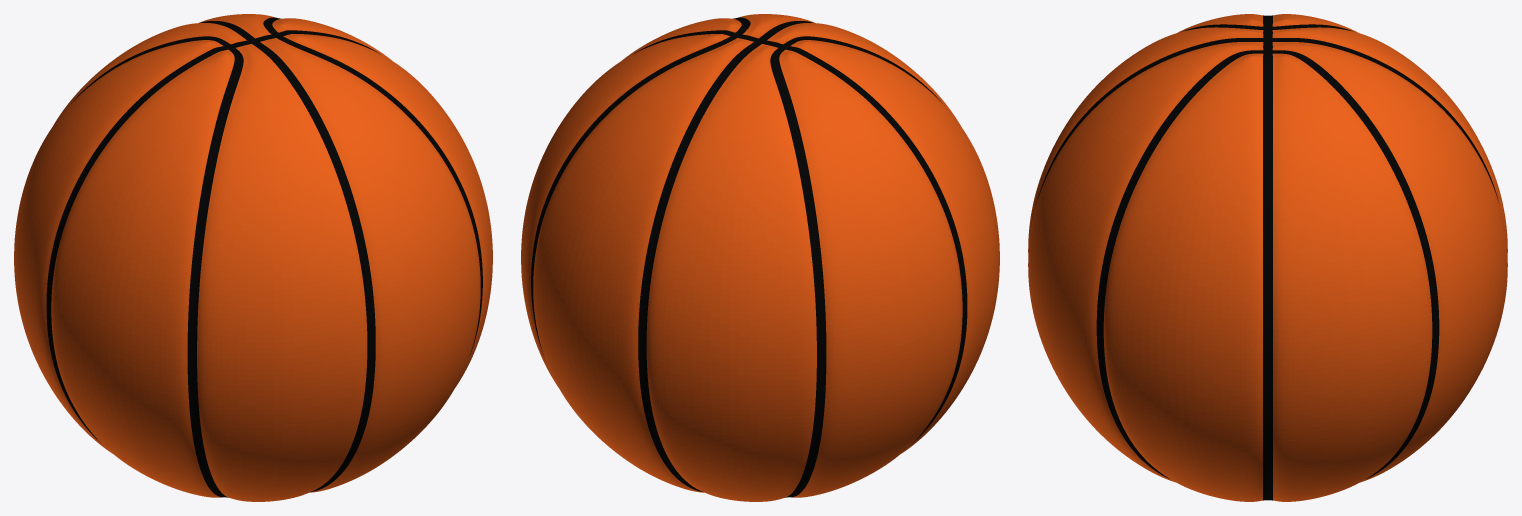
The model's file is ball.fbx.
The picture shows the model from 3 angles, left to right: view 1: azimuth 30°, elevation 25°; view 2: azimuth 150°, elevation 25°; view 3: azimuth 270°, elevation 25°; orthographic projection.
Visible parts, largest first — view 1: Basketball; view 2: Basketball; view 3: Basketball.
Part boxes in pixels (bbox=[...]): Basketball: bbox=[14, 14, 492, 501]; Basketball: bbox=[521, 14, 999, 501]; Basketball: bbox=[1028, 14, 1507, 501].
Bounding box in the file's own units: 1.94 × 1.96 × 1.94.
